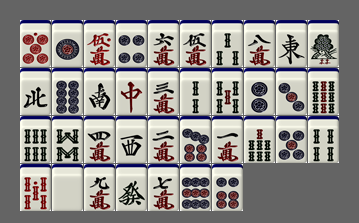0m: (84, 20, 115, 67)
0p: (20, 20, 51, 67)
0s: (20, 164, 51, 211)
1m: (212, 116, 243, 163)
1p: (52, 20, 83, 67)
1s: (308, 20, 339, 67)
1z: (276, 20, 307, 67)
2m: (148, 116, 179, 163)
2p: (244, 68, 275, 115)
2s: (180, 68, 211, 115)
2z: (84, 68, 115, 115)
3m: (148, 68, 179, 115)
3p: (276, 68, 307, 115)
3s: (212, 20, 243, 67)
3z: (116, 116, 147, 163)
4m: (84, 116, 115, 163)
4p: (116, 20, 147, 67)
4s: (308, 116, 339, 163)
4z: (20, 68, 51, 115)
5m: (180, 20, 211, 67)
5p: (276, 116, 307, 163)
5s: (212, 68, 243, 115)
5z: (52, 164, 83, 211)
6m: (148, 20, 179, 67)
6p: (212, 164, 243, 211)
6s: (20, 116, 51, 163)
6z: (116, 164, 147, 211)
7m: (148, 164, 179, 211)
7p: (180, 116, 211, 163)
7s: (244, 116, 275, 163)
7z: (116, 68, 147, 115)
8m: (244, 20, 275, 67)
8p: (52, 68, 83, 115)
8s: (52, 116, 83, 163)
9m: (84, 164, 115, 211)
9p: (180, 164, 211, 211)
9s: (308, 68, 339, 115)
